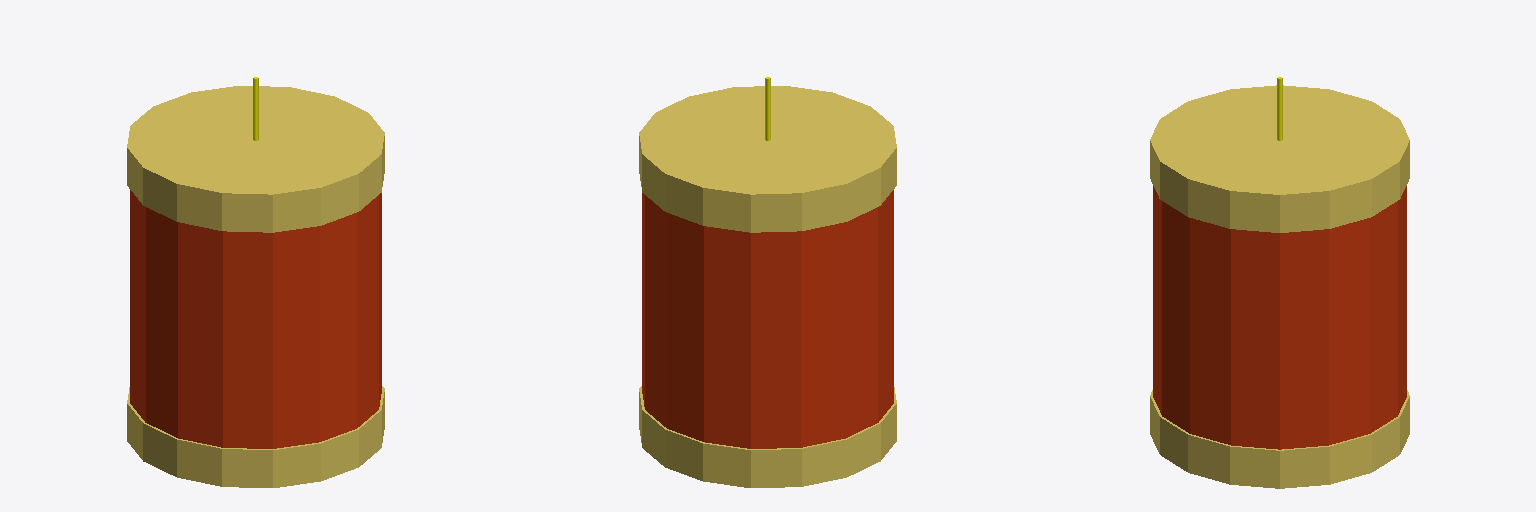
File: firebox.obj
The picture shows the model from 3 angles: view 1: azimuth 30°, elevation 25°; view 2: azimuth 150°, elevation 25°; view 3: azimuth 270°, elevation 25°; orthographic projection.
Parts seen in each view (by area): view 1: ???, ???.1, ???.2; view 2: ???, ???.1, ???.2; view 3: ???, ???.1, ???.2.
Boxes of the visible parts, <box> form: ???: <box>130,190,381,448</box>; ???.1: <box>127,86,384,232</box>; ???.2: <box>127,386,384,487</box>; ???: <box>642,190,893,448</box>; ???.1: <box>639,86,896,232</box>; ???.2: <box>639,386,896,487</box>; ???: <box>1153,186,1406,449</box>; ???.1: <box>1150,85,1409,232</box>; ???.2: <box>1150,390,1409,488</box>.
Size of the model in its own units: 102 by 154 by 102.